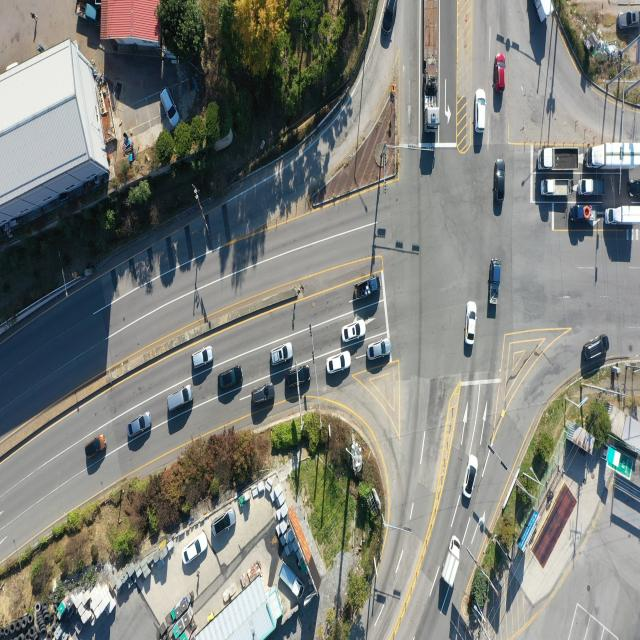car: (183, 531, 210, 567), (166, 384, 194, 413), (162, 86, 181, 127), (581, 336, 608, 364), (380, 0, 398, 37), (462, 456, 477, 500), (128, 412, 152, 439), (284, 367, 310, 391), (213, 511, 235, 539), (217, 368, 242, 392), (327, 351, 352, 374), (494, 158, 506, 205), (342, 319, 366, 342), (366, 339, 391, 361), (271, 343, 294, 366), (192, 346, 215, 369), (252, 382, 276, 404), (84, 434, 105, 458), (476, 89, 487, 132), (495, 52, 505, 96), (466, 302, 476, 344), (617, 10, 640, 28), (626, 178, 640, 197)
large_truck: (421, 0, 441, 132)
medium_truck: (585, 140, 640, 172), (538, 146, 580, 172), (607, 205, 640, 228), (536, 0, 554, 24)
small_truck: (443, 534, 464, 588), (278, 563, 306, 600), (353, 274, 378, 301), (542, 180, 574, 200), (75, 0, 98, 24), (489, 260, 501, 306), (580, 177, 606, 197), (571, 204, 596, 224)
